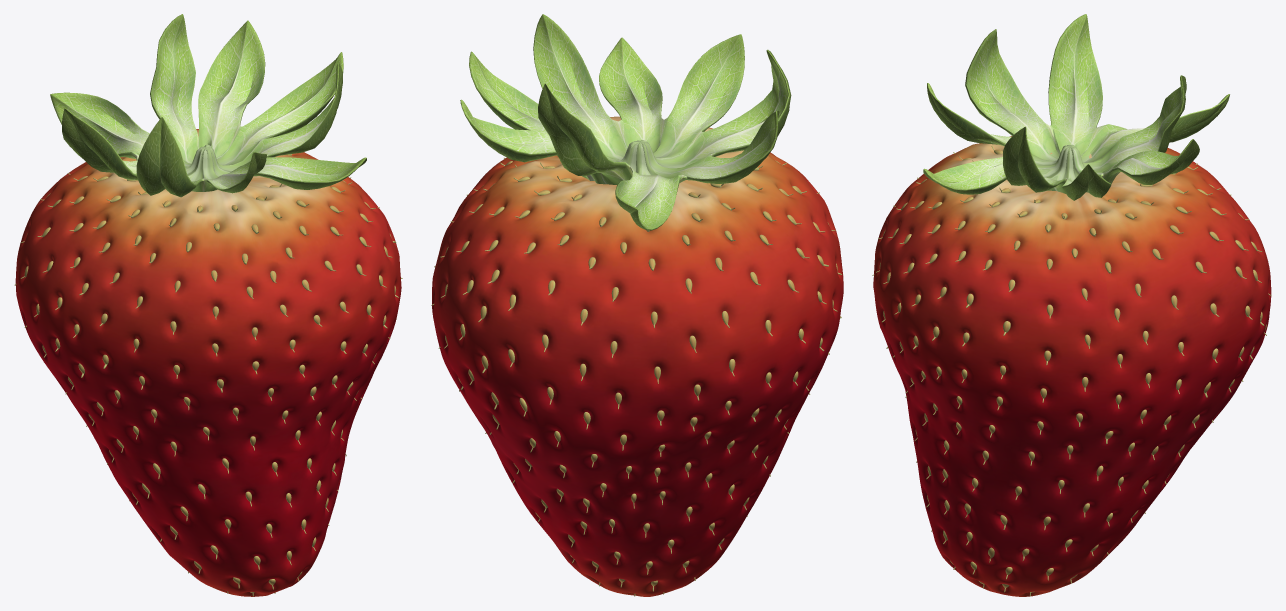
Rendered from strawberry.glb.
3 renders of one model, left to right at view 1: azimuth 30°, elevation 25°; view 2: azimuth 150°, elevation 25°; view 3: azimuth 270°, elevation 25°, orthographic. The views are drawn at different scales.
Parts seen in each view (by area): view 1: Strawberry; view 2: Strawberry; view 3: Strawberry.
Part boxes in pixels (x1,y1,x2,y2): Strawberry: (14,14,402,596); Strawberry: (431,14,843,596); Strawberry: (872,14,1271,596).
Bounding box in the file's own units: 0.4947 × 0.7439 × 0.5172.
1 material, 1 textured.
